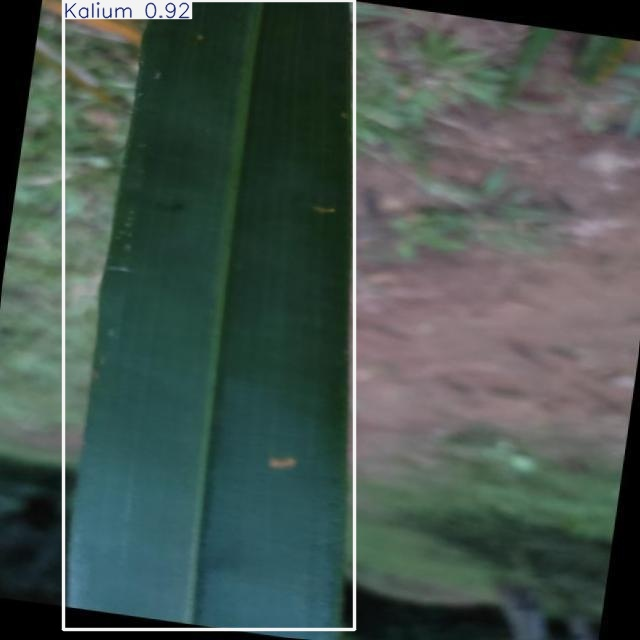Kalium: (63, 0, 355, 630)
